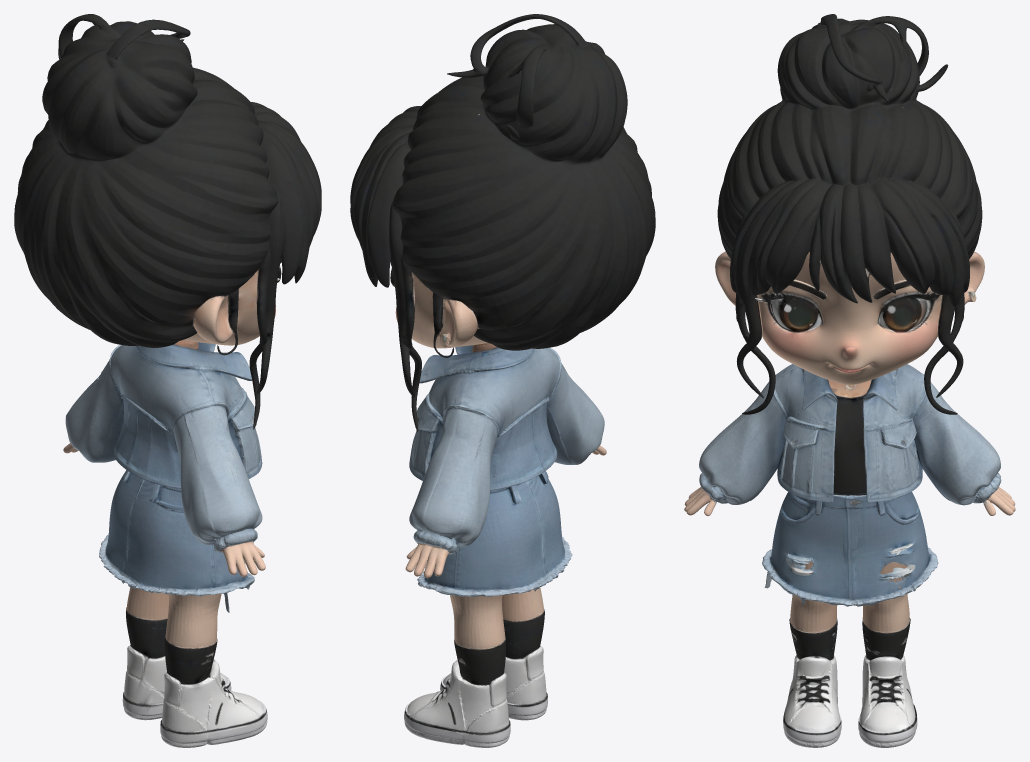
File: stylized+girl.glb
3 renders of one model, left to right at view 1: azimuth 30°, elevation 25°; view 2: azimuth 150°, elevation 25°; view 3: azimuth 270°, elevation 25°, orthographic. The views are drawn at different scales.
Visible parts, largest first — view 1: tripo_node_1cfe50a3-a254-4cfd-a32b-a7a0fdc0715f; view 2: tripo_node_1cfe50a3-a254-4cfd-a32b-a7a0fdc0715f; view 3: tripo_node_1cfe50a3-a254-4cfd-a32b-a7a0fdc0715f.
Boxes of the visible parts, x1,y1,x2,y2 form: tripo_node_1cfe50a3-a254-4cfd-a32b-a7a0fdc0715f: (14, 14, 321, 747); tripo_node_1cfe50a3-a254-4cfd-a32b-a7a0fdc0715f: (350, 14, 655, 747); tripo_node_1cfe50a3-a254-4cfd-a32b-a7a0fdc0715f: (684, 14, 1015, 747).
Size of the model in its own units: 0.3838 by 0.9996 by 0.44.
1 material, 1 textured.
